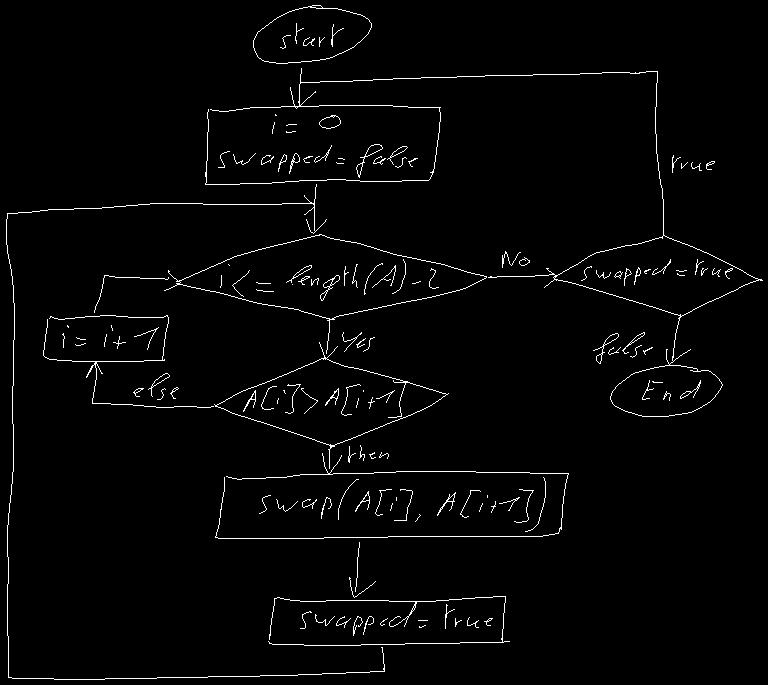arrow: (6, 195, 384, 679), (300, 71, 663, 237), (86, 361, 213, 407), (94, 270, 180, 312), (349, 542, 375, 597), (488, 268, 556, 287), (666, 318, 690, 364), (290, 68, 315, 108), (306, 184, 326, 233), (319, 318, 337, 359), (322, 444, 341, 474)
decision: (176, 234, 486, 320), (214, 357, 448, 447), (553, 235, 762, 317)
process: (215, 471, 568, 538), (205, 105, 440, 184), (268, 596, 509, 645), (43, 315, 168, 361)
terminator: (253, 5, 371, 63), (610, 365, 722, 416)
text: (259, 477, 545, 531), (218, 114, 417, 177), (220, 259, 438, 300), (300, 601, 492, 635), (243, 380, 407, 417), (581, 259, 732, 285), (62, 325, 158, 349), (593, 332, 652, 363), (280, 23, 343, 48), (133, 373, 178, 399), (642, 380, 700, 400), (672, 155, 714, 172), (348, 445, 388, 462), (342, 332, 374, 351), (502, 251, 529, 267)
